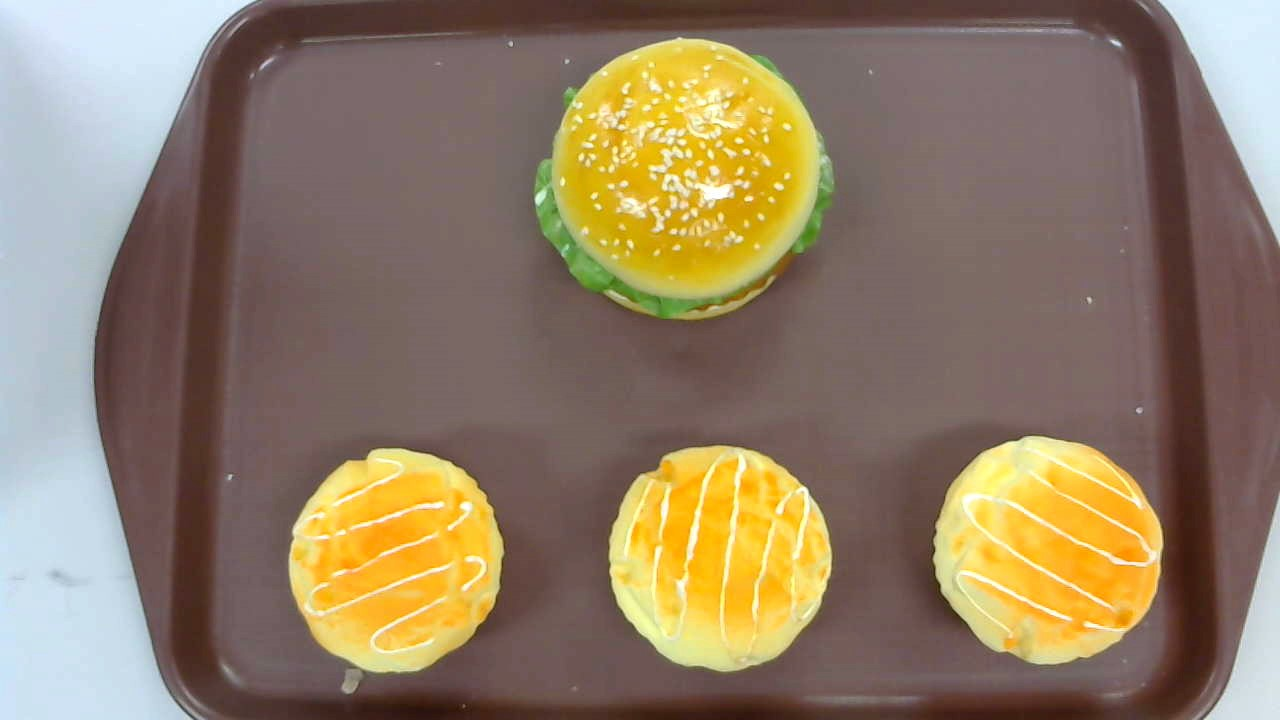cupcake: (932, 432, 1162, 666), (609, 444, 833, 672), (287, 446, 505, 675)
hamburger: (533, 39, 833, 321)
